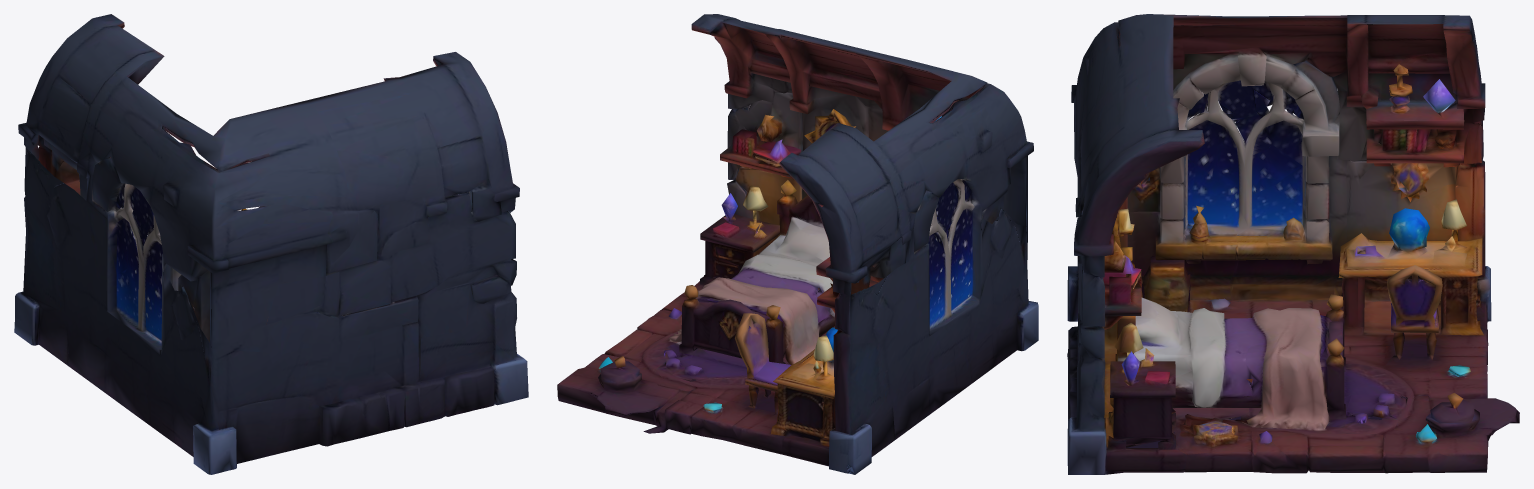
Rendered from bedroom.glb.
3 views of the same model, side by side, from view 1: azimuth 30°, elevation 25°; view 2: azimuth 150°, elevation 25°; view 3: azimuth 270°, elevation 25° (orthographic). The views are drawn at different scales.
Visible parts, largest first — view 1: tripo_node_d2cb850d-05a8-4935-ab97-56edad577637_0; view 2: tripo_node_d2cb850d-05a8-4935-ab97-56edad577637_0; view 3: tripo_node_d2cb850d-05a8-4935-ab97-56edad577637_0.
Boxes of the visible parts, <box> form: tripo_node_d2cb850d-05a8-4935-ab97-56edad577637_0: <box>14,14,528,474</box>; tripo_node_d2cb850d-05a8-4935-ab97-56edad577637_0: <box>557,14,1038,474</box>; tripo_node_d2cb850d-05a8-4935-ab97-56edad577637_0: <box>1067,14,1519,474</box>.
Bounding box in the file's own units: 0.7499 × 0.6853 × 0.8537.
1 material, 1 textured.
